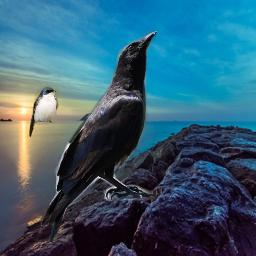Crow: (40, 30, 157, 242)
Swallow: (29, 85, 59, 137)
